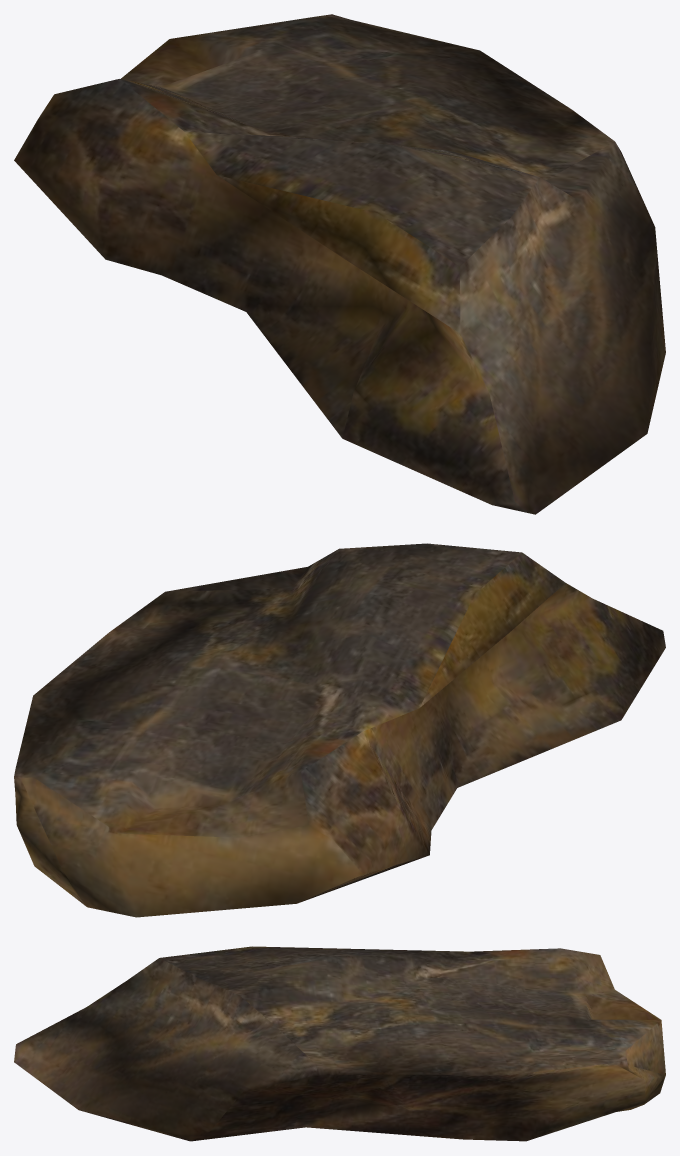
Rendered from rock-09.glb.
The picture shows the model from 3 angles, top to bottom: view 1: azimuth 30°, elevation 25°; view 2: azimuth 150°, elevation 25°; view 3: azimuth 270°, elevation 25°; orthographic projection. The views are drawn at different scales.
Visible parts, largest first — view 1: rock_09; view 2: rock_09; view 3: rock_09.
Part boxes in pixels (x1=…): rock_09: x1=14, y1=14, x2=665, y2=514; rock_09: x1=14, y1=543, x2=665, y2=917; rock_09: x1=14, y1=946, x2=665, y2=1141.
Size of the model in its own units: 0.073 by 0.032 by 0.1429.
1 material, 1 textured.
